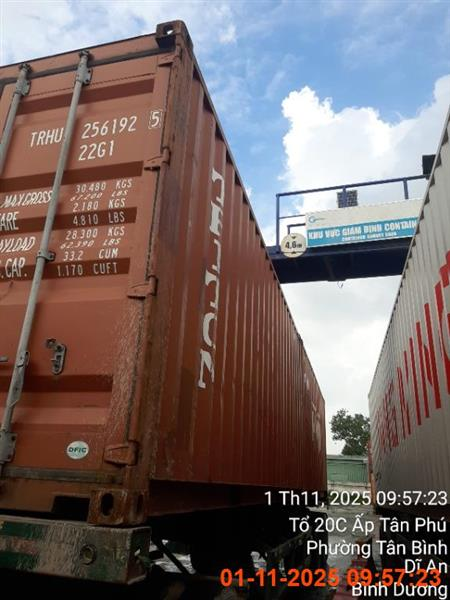broken: (2, 20, 331, 595)
